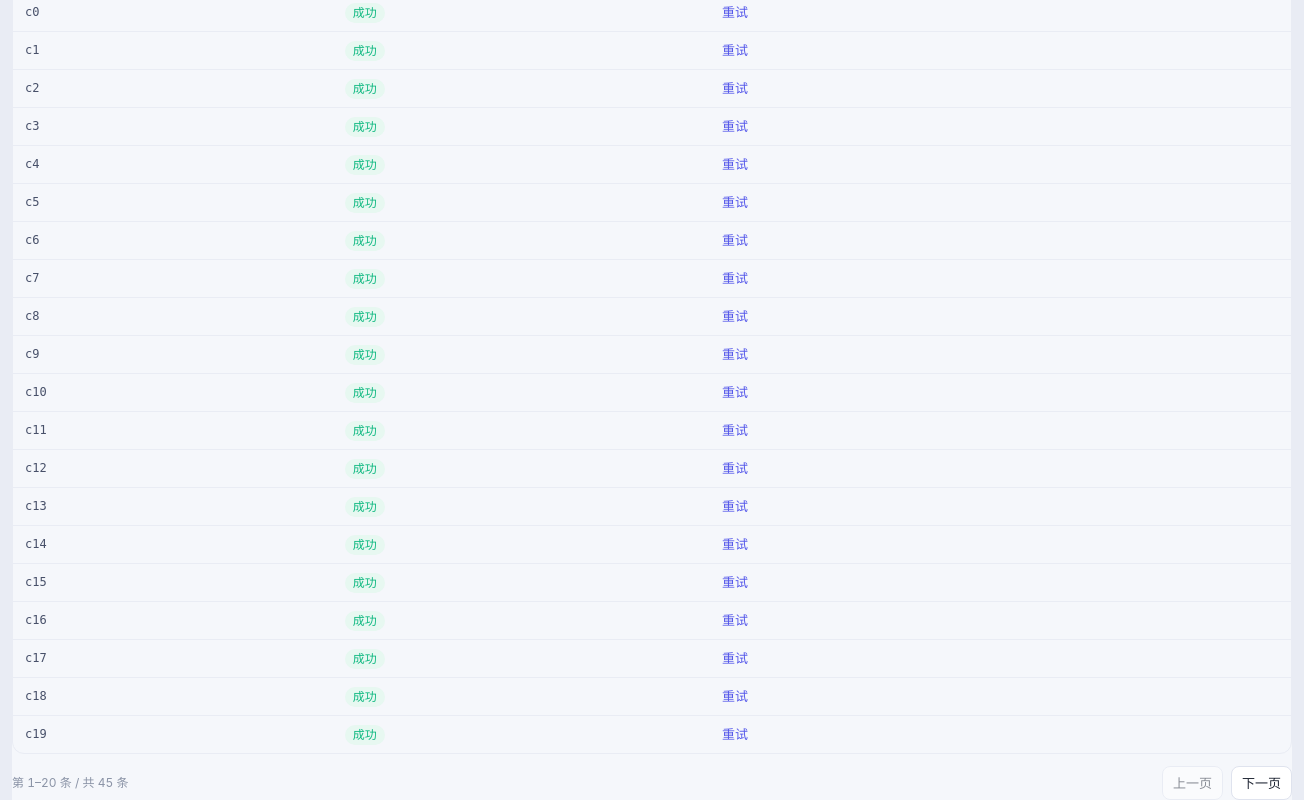
paginates 20 per page with controls
This screenshot has width=1304, height=800.
(page scrolled)
Check: the text "第 1–20 条 / 共 45 条" is shown, box [12,774,129,792]
Check: the text "c20" is not shown
next page
Click the button "下一页" at [1262, 782], box [1231,766,1292,799]
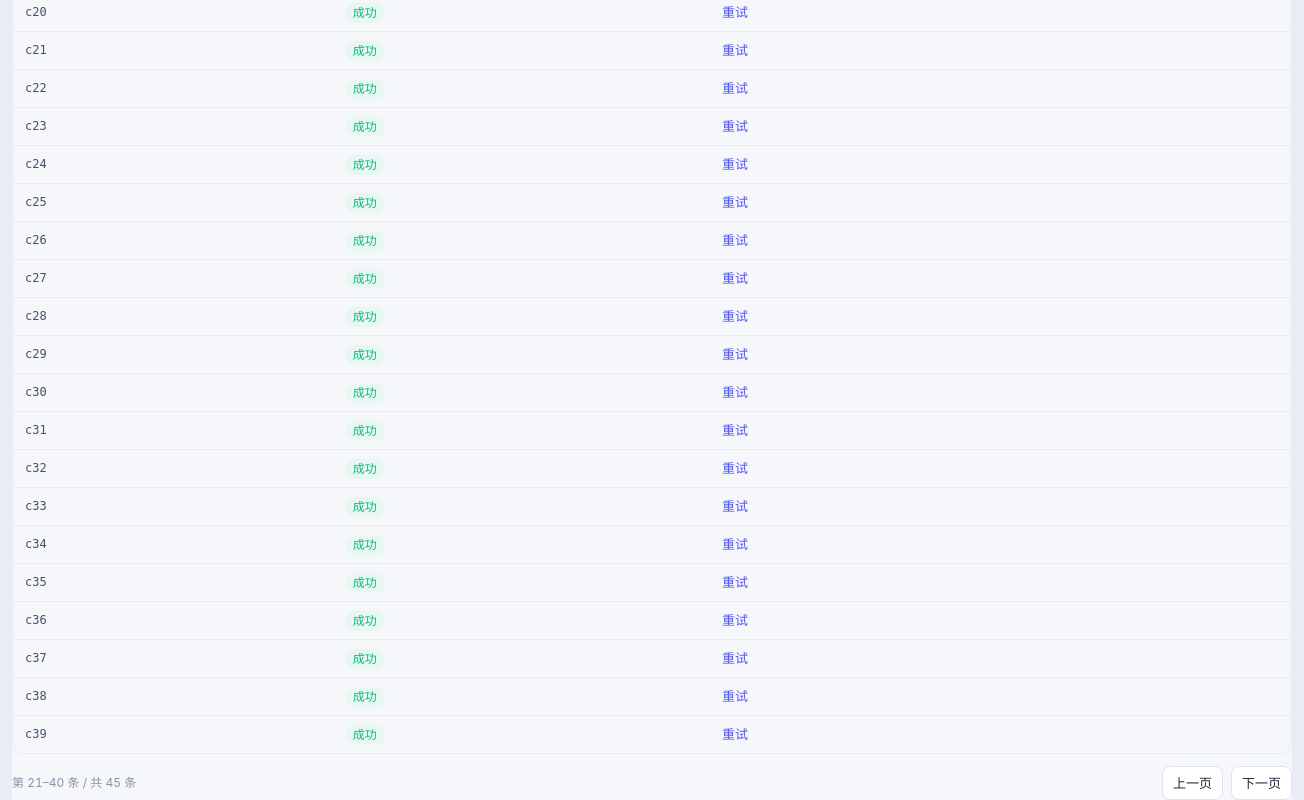
Check: the text "第 21–40 条 / 共 45 条" is shown, box [12,774,136,792]
